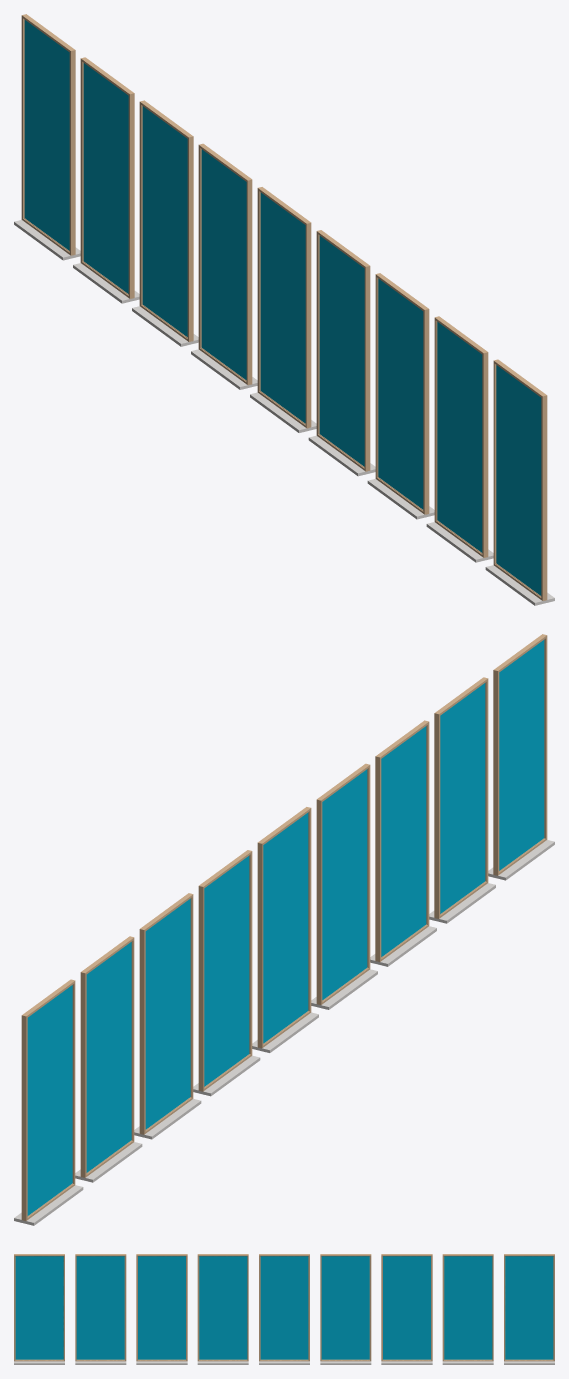
The model's file is model-part.gltf_windows_Nivel 1.gltf.
The picture shows the model from 3 angles, top to bottom: view 1: azimuth 30°, elevation 25°; view 2: azimuth 150°, elevation 25°; view 3: azimuth 270°, elevation 25°; orthographic projection. The views are drawn at different scales.
Size of the model in its own units: 0.2366 by 2.33 by 10.6.
